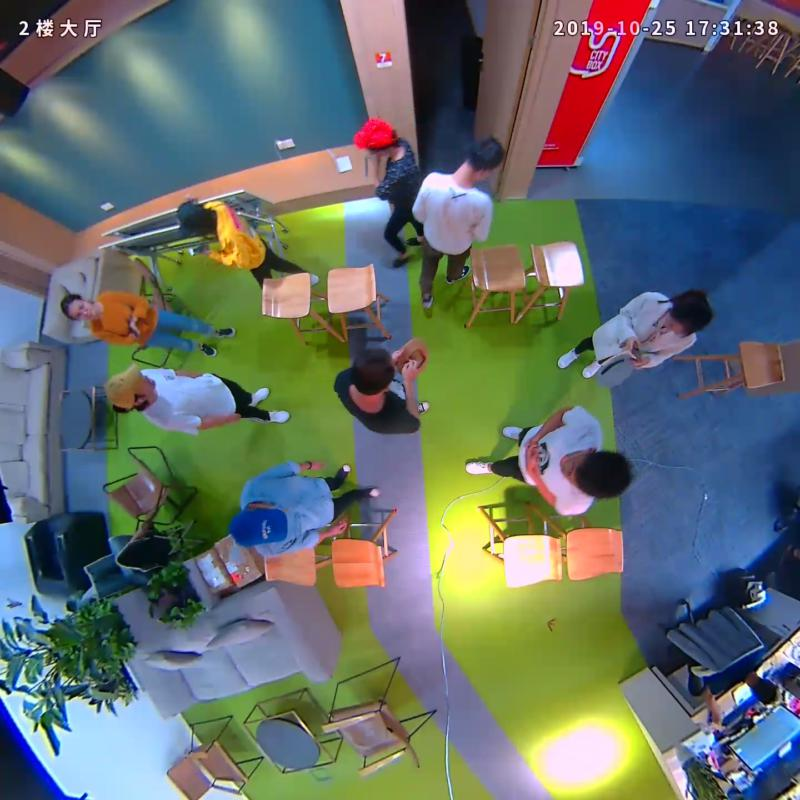head: (559, 447, 631, 498), (104, 362, 155, 410), (229, 507, 288, 547), (352, 348, 395, 398), (665, 294, 713, 337), (351, 115, 399, 155), (466, 136, 504, 181), (178, 199, 212, 236), (59, 293, 96, 323)
